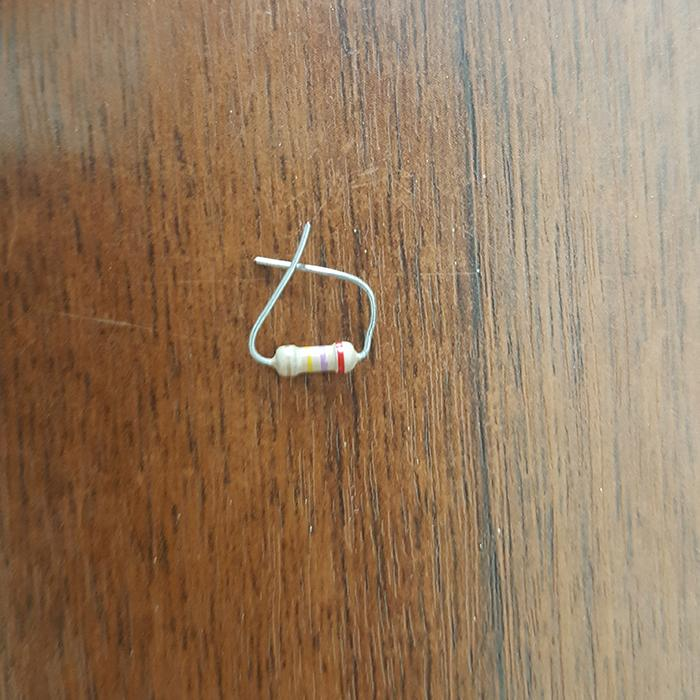resistor: (268, 340, 359, 378)
